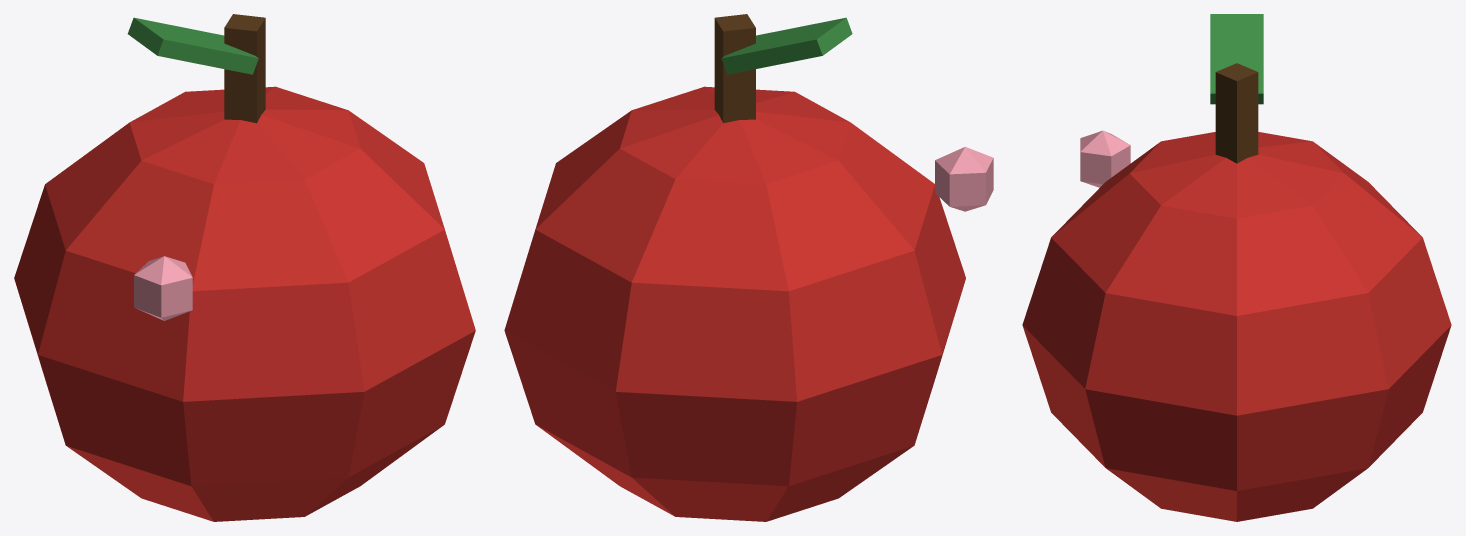
File: apple.fbx
3 renders of one model, left to right at view 1: azimuth 30°, elevation 25°; view 2: azimuth 150°, elevation 25°; view 3: azimuth 270°, elevation 25°, orthographic. The views are drawn at different scales.
Parts seen in each view (by area): view 1: apple; view 2: apple; view 3: apple.
Boxes of the visible parts, x1,y1,x2,y2 form: apple: [14, 14, 475, 521]; apple: [504, 14, 993, 521]; apple: [1022, 14, 1451, 521].
Bounding box in the file's own units: 0.32 × 0.3651 × 0.32.
